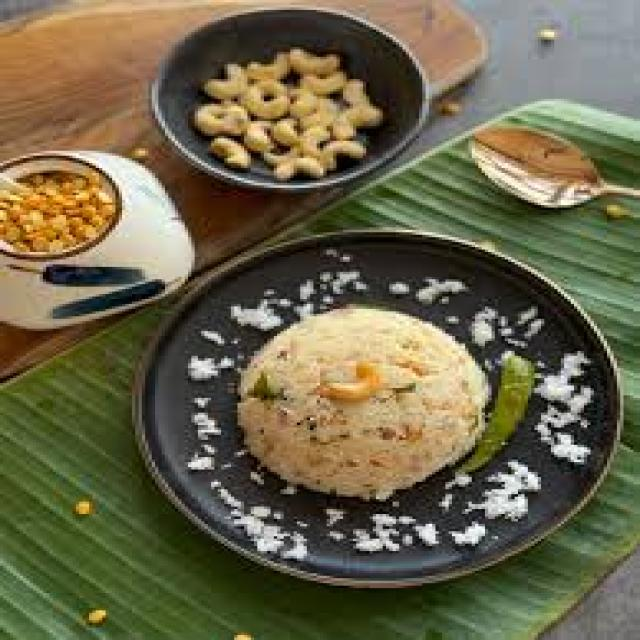UPMA: (244, 309, 482, 490)
